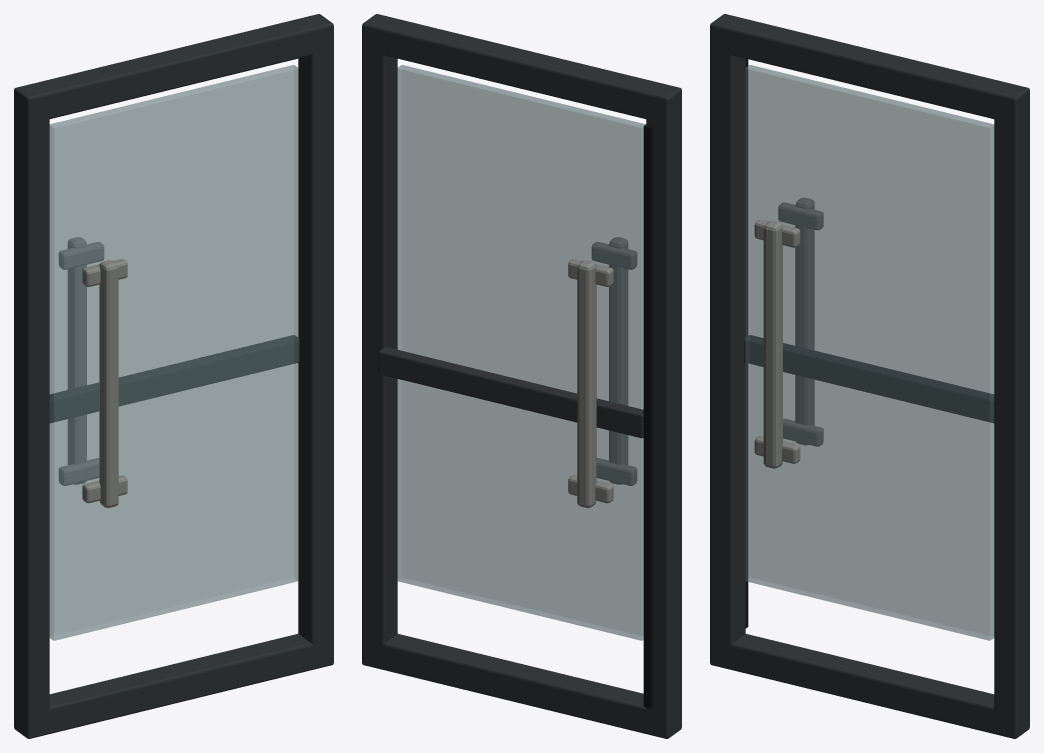
Rendered from exterior_glass_door_leaf_right.glb.
3 renders of one model, left to right at view 1: azimuth 30°, elevation 25°; view 2: azimuth 150°, elevation 25°; view 3: azimuth 330°, elevation 25°, orthographic.
Parts seen in each view (by area): view 1: exterior_glass_door_leaf_right; view 2: exterior_glass_door_leaf_right; view 3: exterior_glass_door_leaf_right.
Part boxes in pixels (x1,y1,x2,y2): exterior_glass_door_leaf_right: [14, 14, 333, 738]; exterior_glass_door_leaf_right: [362, 14, 681, 738]; exterior_glass_door_leaf_right: [710, 14, 1029, 738].
Bounding box in the file's own units: 0.95 × 1.9 × 0.215.
